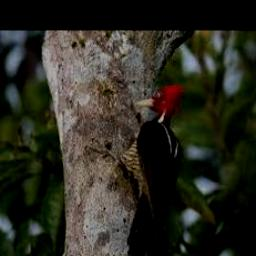Woodpecker: (89, 84, 184, 256)
